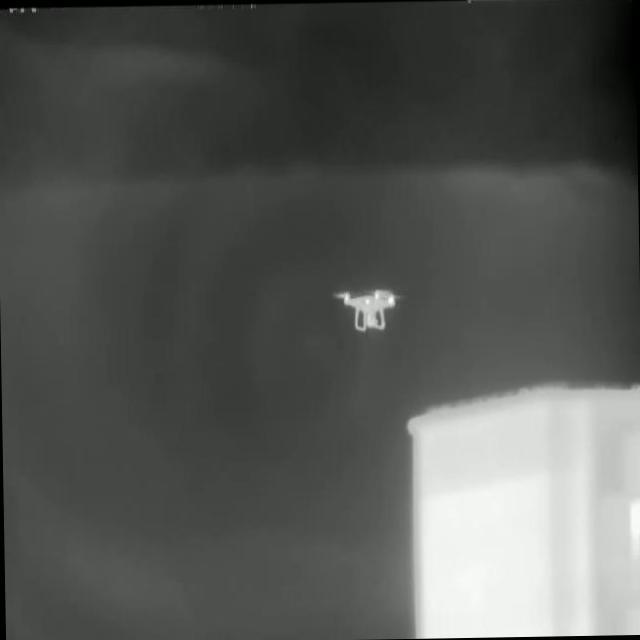DRONE: (332, 285, 404, 332)
